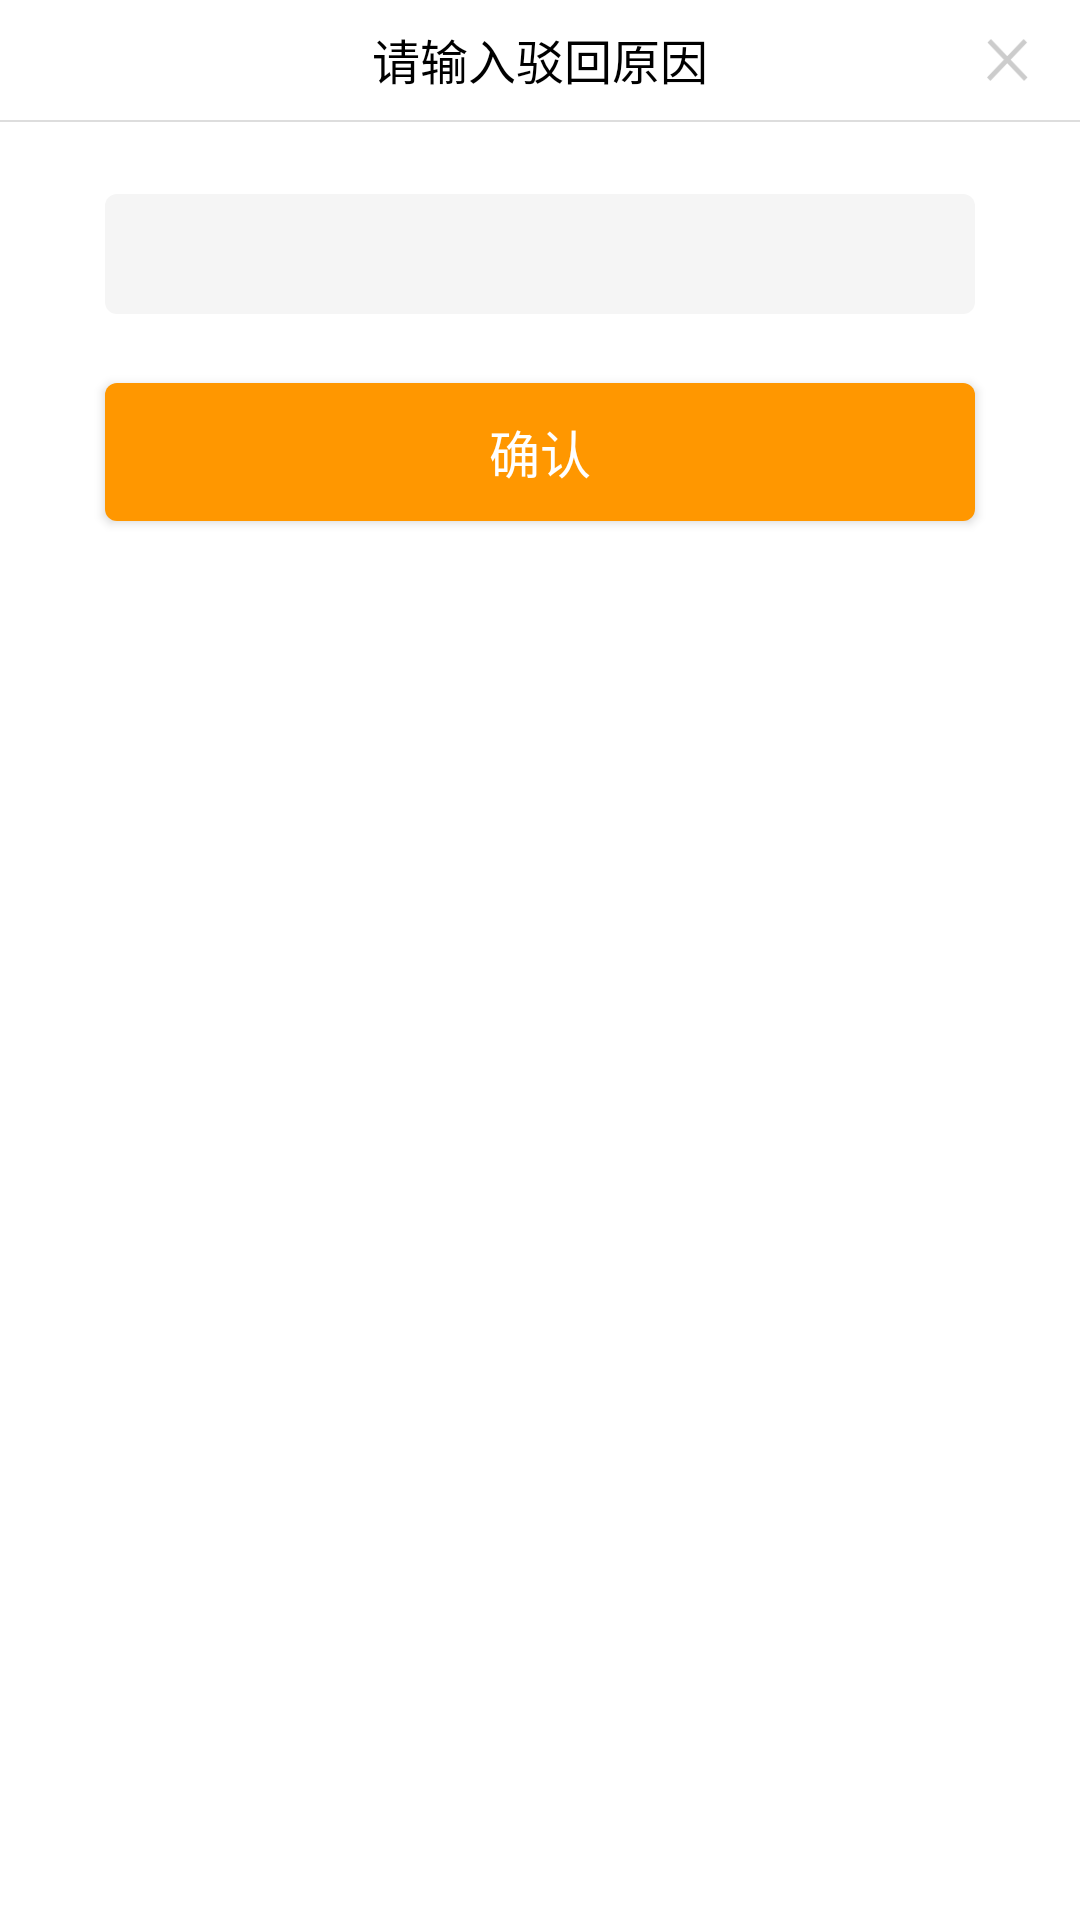

Icon click points for this 1080 x 1920 phone screenshot, format (x,y):
cancel: (1007,60)
